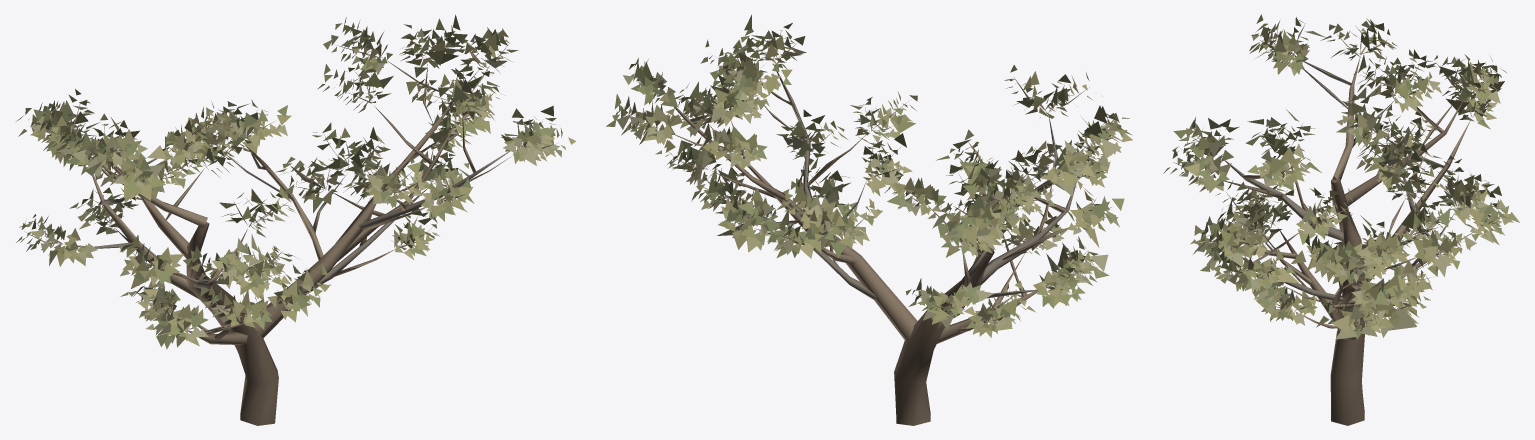
The picture shows the model from 3 angles, left to right: view 1: azimuth 30°, elevation 25°; view 2: azimuth 150°, elevation 25°; view 3: azimuth 270°, elevation 25°; orthographic projection. The views are drawn at different scales.
Parts seen in each view (by area): view 1: t03; view 2: t03; view 3: t03.
Part boxes in pixels (<box>): t03: <box>16,14,575,425</box>; t03: <box>606,14,1132,425</box>; t03: <box>1163,14,1519,425</box>.
Size of the model in its own units: 4.49 by 3.2 by 2.99.
